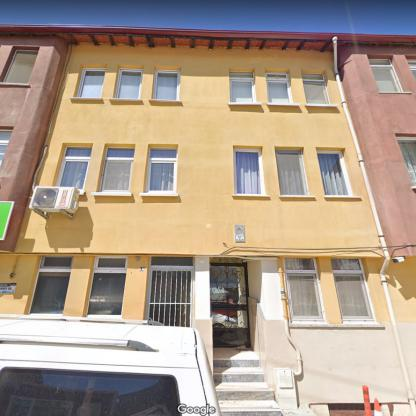door: (210, 258, 250, 346), (146, 268, 194, 327)
window: (331, 258, 376, 321), (86, 255, 128, 318), (29, 256, 72, 314), (284, 258, 324, 320), (54, 146, 92, 192), (316, 150, 352, 196), (100, 147, 135, 192), (275, 150, 308, 196), (146, 147, 178, 192), (234, 148, 264, 194), (368, 59, 404, 92), (3, 50, 37, 84), (396, 136, 416, 186), (75, 68, 105, 98), (115, 68, 144, 99), (265, 71, 293, 103), (302, 73, 330, 104), (229, 72, 256, 102), (154, 70, 180, 100), (150, 257, 193, 267), (1, 131, 10, 158), (407, 60, 416, 79)
